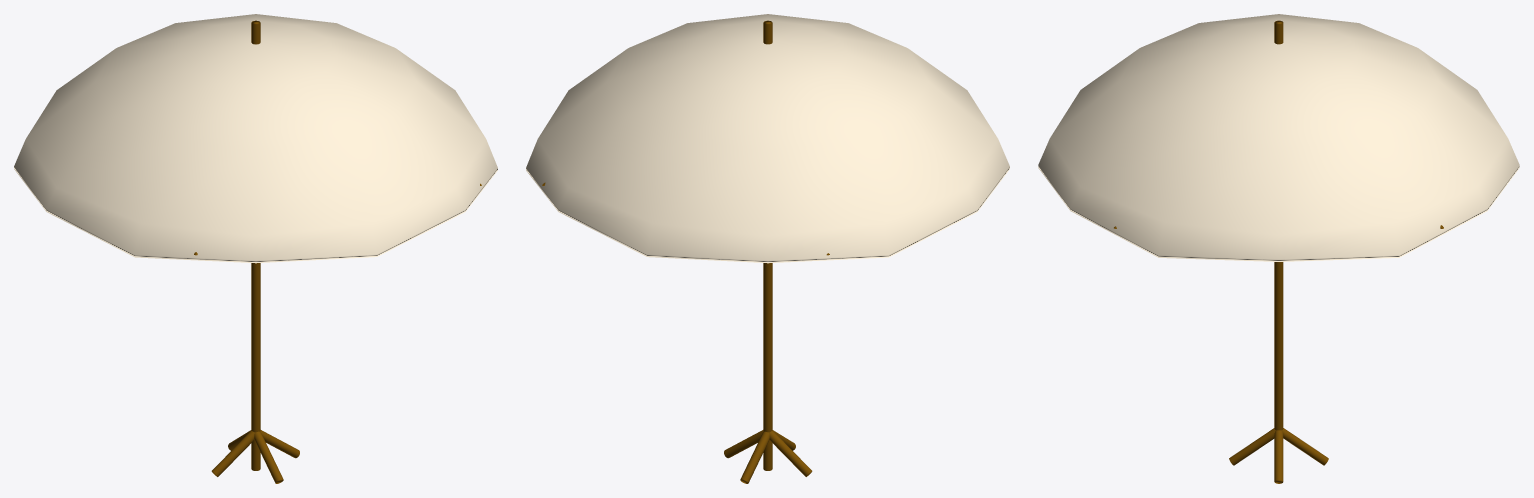
The model's file is parasol.fbx.
3 renders of one model, left to right at view 1: azimuth 30°, elevation 25°; view 2: azimuth 150°, elevation 25°; view 3: azimuth 270°, elevation 25°, orthographic.
Visible parts, largest first — view 1: parasol; view 2: parasol; view 3: parasol.
Part boxes in pixels (left/top/right/bottom): parasol: left=14, top=14, right=497, bottom=483; parasol: left=526, top=14, right=1009, bottom=483; parasol: left=1038, top=14, right=1519, bottom=483.
Size of the model in its own units: 0.0258 by 0.0262 by 0.0258.
1 material, 1 textured.
